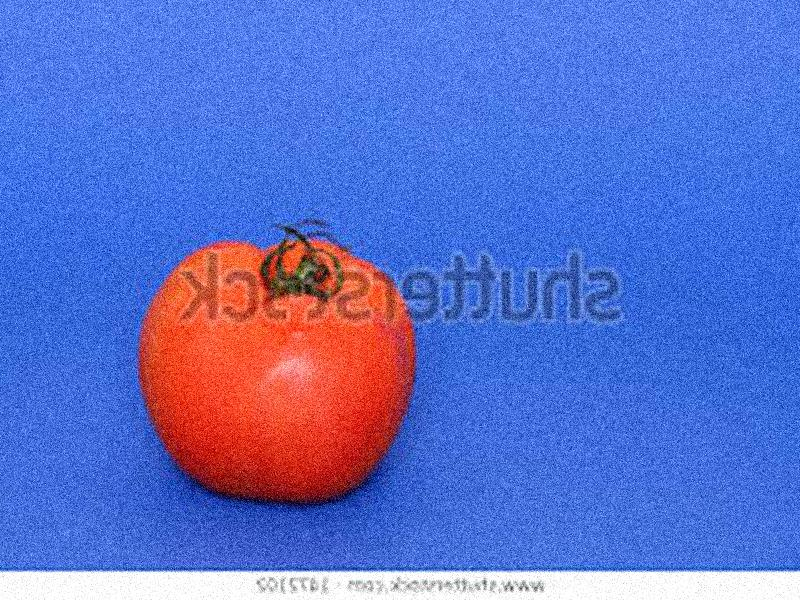Tomato: (133, 236, 411, 498)
